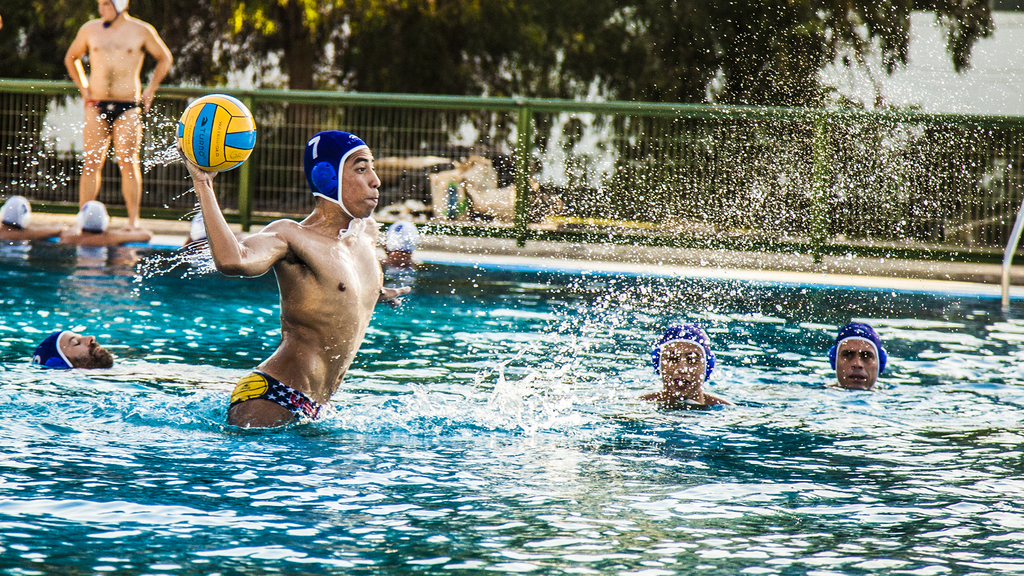Person: (626, 318, 742, 406), (50, 197, 165, 282), (818, 320, 896, 404), (27, 320, 133, 379), (0, 194, 62, 248)
